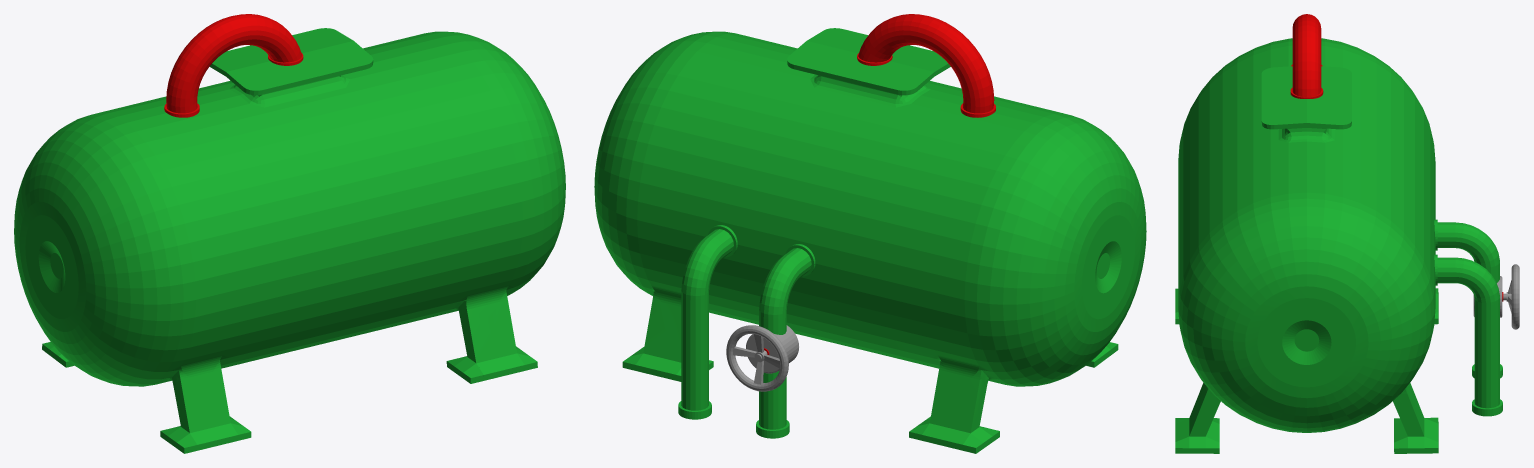
The model's file is Bochka.fbx.
The picture shows the model from 3 angles, left to right: view 1: azimuth 30°, elevation 25°; view 2: azimuth 150°, elevation 25°; view 3: azimuth 270°, elevation 25°; orthographic projection. The views are drawn at different scales.
Visible parts, largest first — view 1: Bochka_LOD0; view 2: Bochka_LOD0; view 3: Bochka_LOD0.
Boxes of the visible parts, left/top/right/bottom form: Bochka_LOD0: left=14, top=14, right=565, bottom=453; Bochka_LOD0: left=594, top=14, right=1146, bottom=453; Bochka_LOD0: left=1175, top=14, right=1519, bottom=453.
Size of what is drawn, in the model's own units: 967 by 692 by 655.
